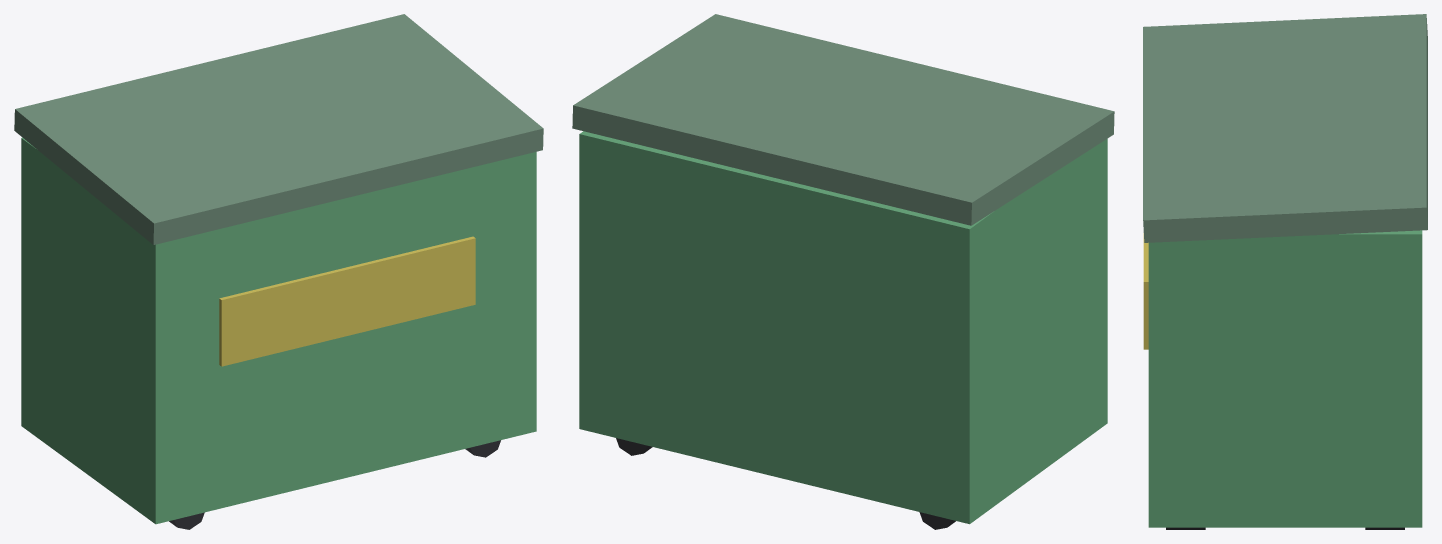
File: Cop_Konteyneri.glb
The picture shows the model from 3 angles, left to right: view 1: azimuth 30°, elevation 25°; view 2: azimuth 150°, elevation 25°; view 3: azimuth 270°, elevation 25°; orthographic projection. The views are drawn at different scales.
Visible parts, largest first — view 1: Cop_Konteyneri; view 2: Cop_Konteyneri; view 3: Cop_Konteyneri.
Boxes of the visible parts, <box> form: Cop_Konteyneri: <box>14,14,543,529</box>; Cop_Konteyneri: <box>572,14,1114,529</box>; Cop_Konteyneri: <box>1143,14,1427,529</box>.
Bounding box in the file's own units: 1.84 × 1.53 × 1.14.
